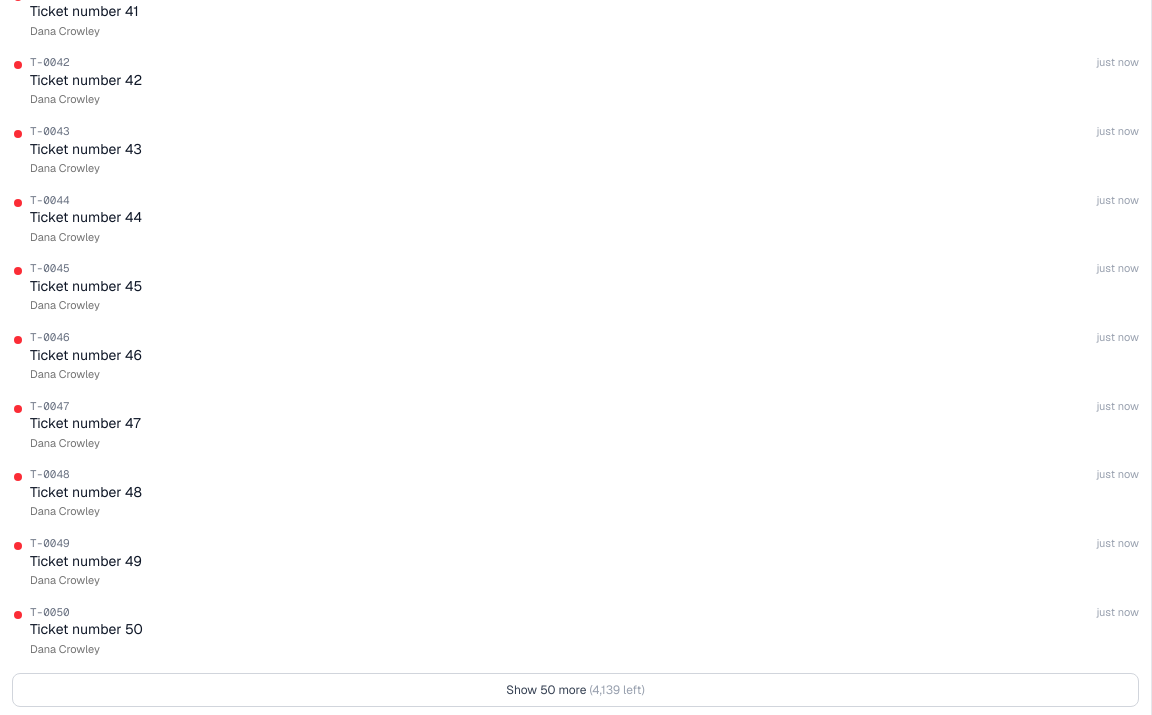
Test case: ticket queue list — how much it draws › offers to show more, and does
(page scrolled)
Click the button "Show 50 more (4,139 left)" at coordinates (576, 690), box [12,673,1139,707]
(page scrolled)
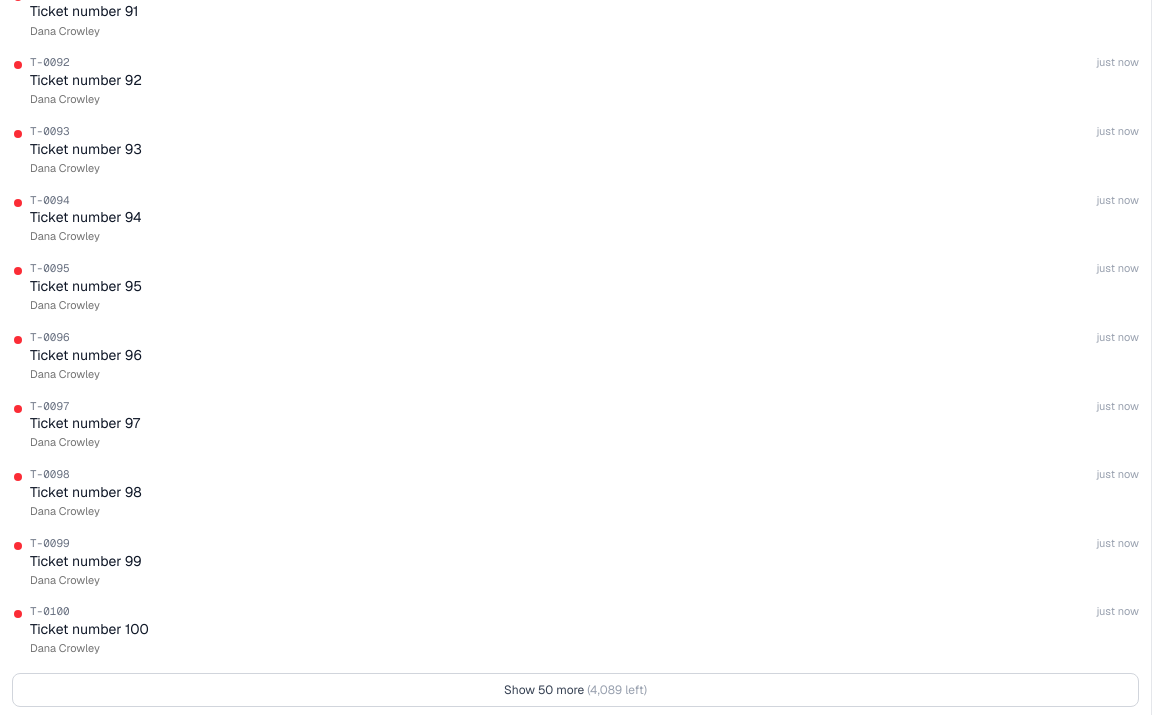
Result: the text "Ticket number 100" is shown at [30,620,149,638]
